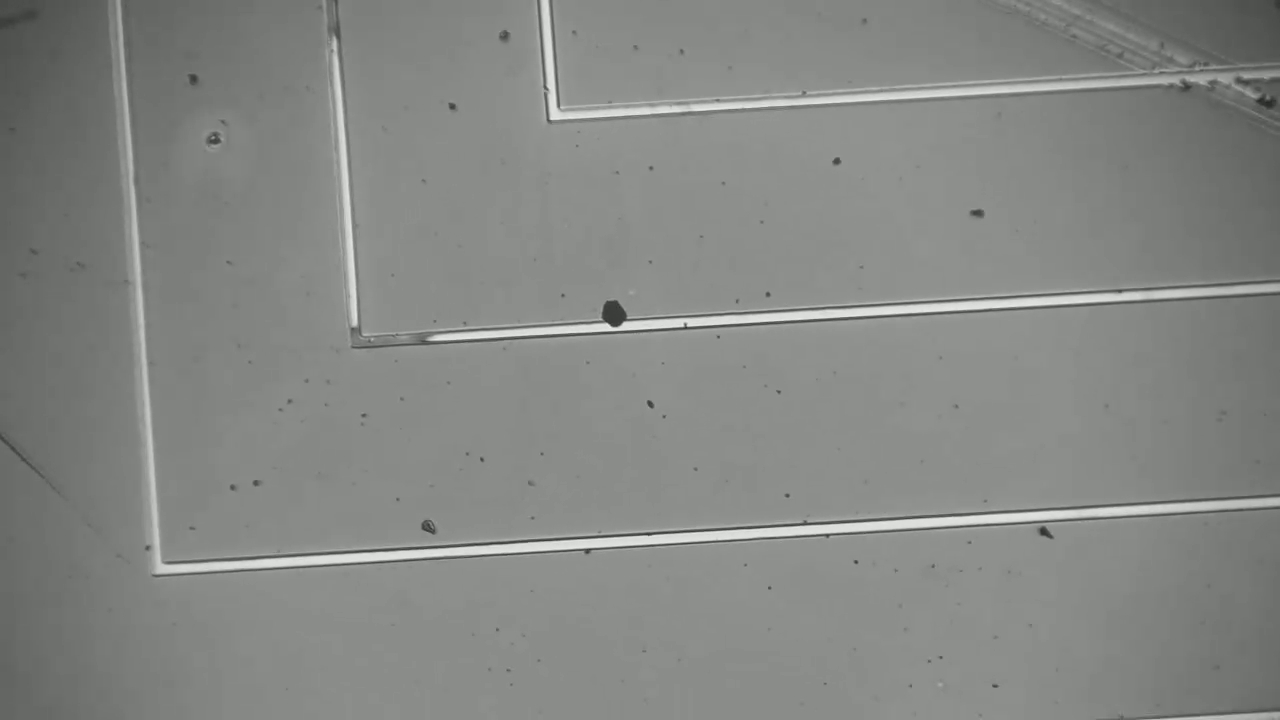edge_bite: (540, 80, 564, 98)
gray_line: (339, 325, 447, 351), (315, 1, 352, 50), (340, 313, 370, 363)
scratch: (1012, 1, 1280, 139), (1, 440, 118, 551)
stains_enbedded: (595, 294, 635, 343)
